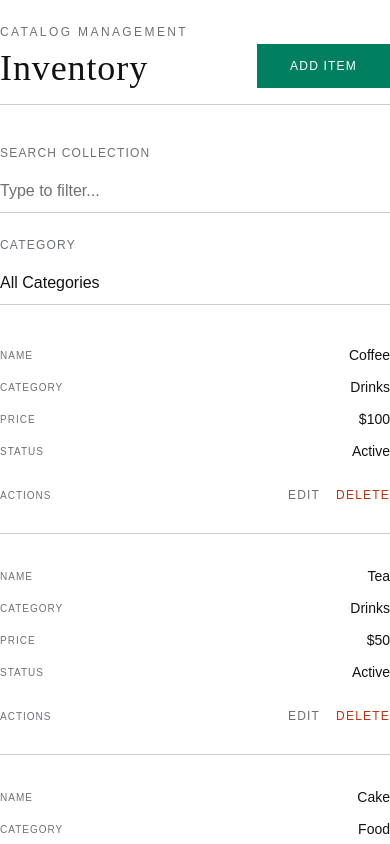
Test: ProductsPage › opens confirm dialog when delete is clicked
What coordinates should you click on to do the following:
click the button "Delete" below "$100"
I would click on:
 (363, 495)
Its box is [336,473,389,517].
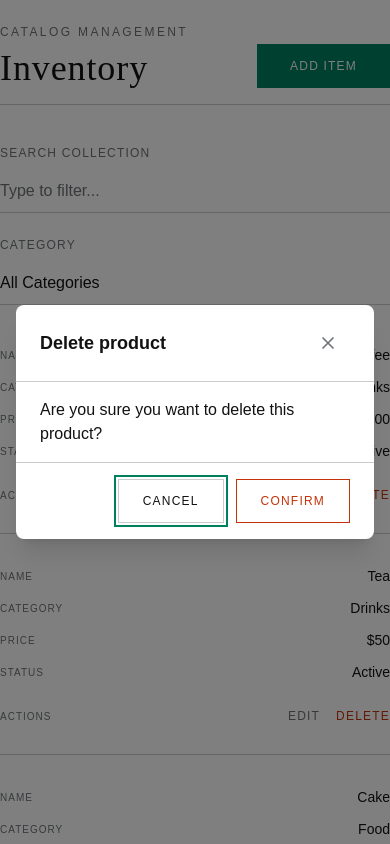
Expected: the text "Are you sure you want to delete this product?" is shown, [40,401,294,442]
